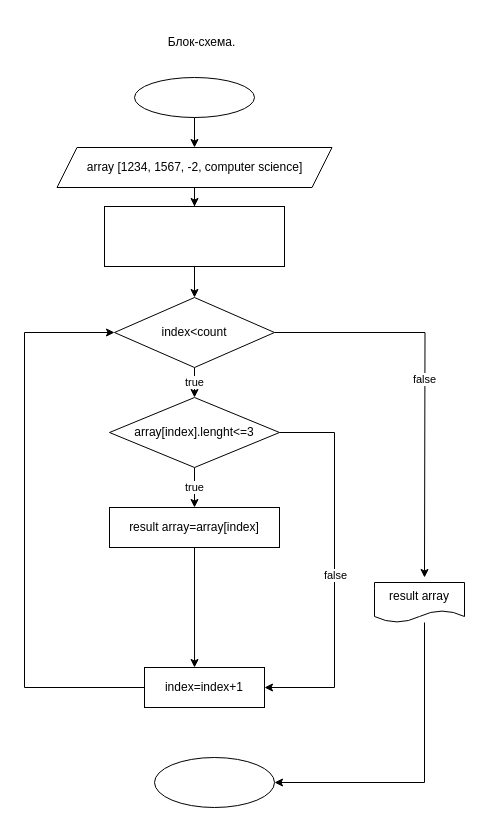
Image size: 482x825. Some labels were removed from this diagram. Each missing label, with the centre of its shape:
"end" goes at pixel 214 782.
"index=0 count = array.lenght" goes at pixel 194 236.
"start" goes at pixel 194 97.
